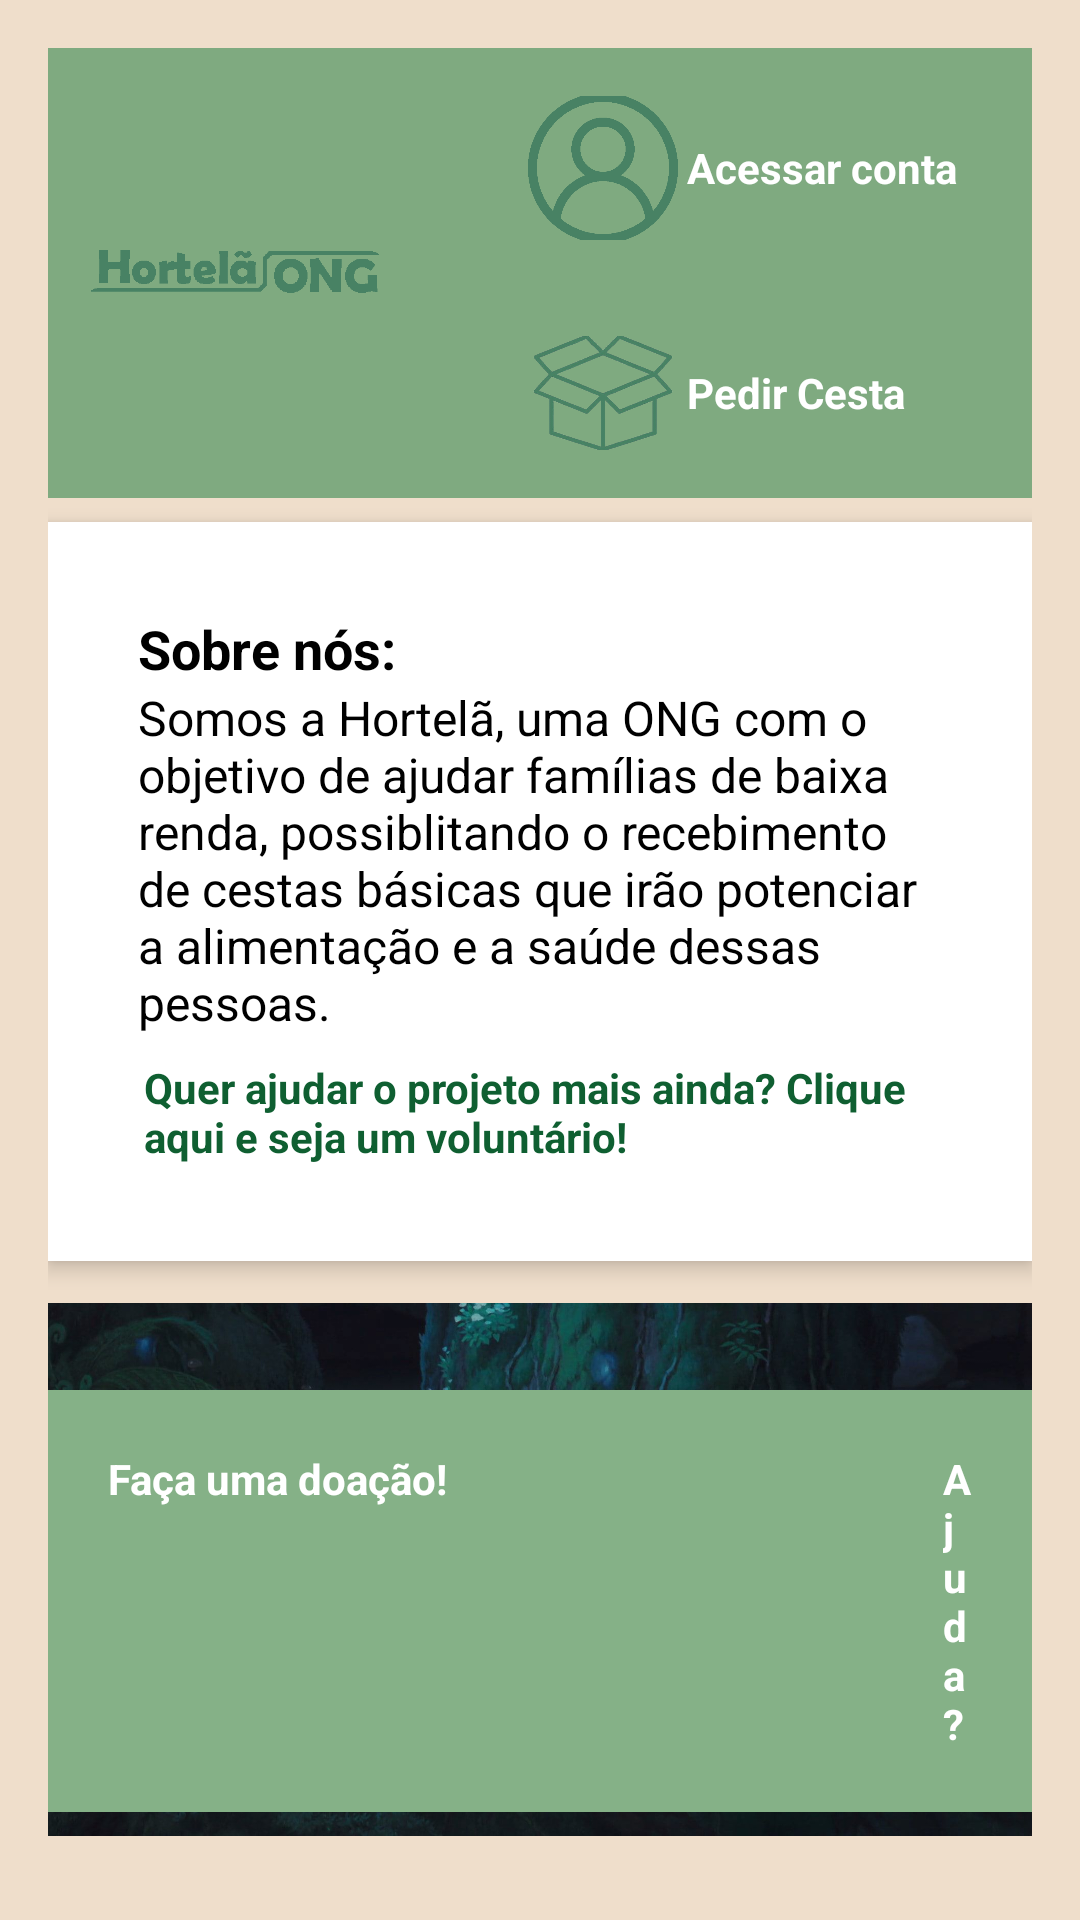

Where to tap for icons on this 1080x1920 app screen, as (x=x, y=y):
profile: (x=603, y=168)
